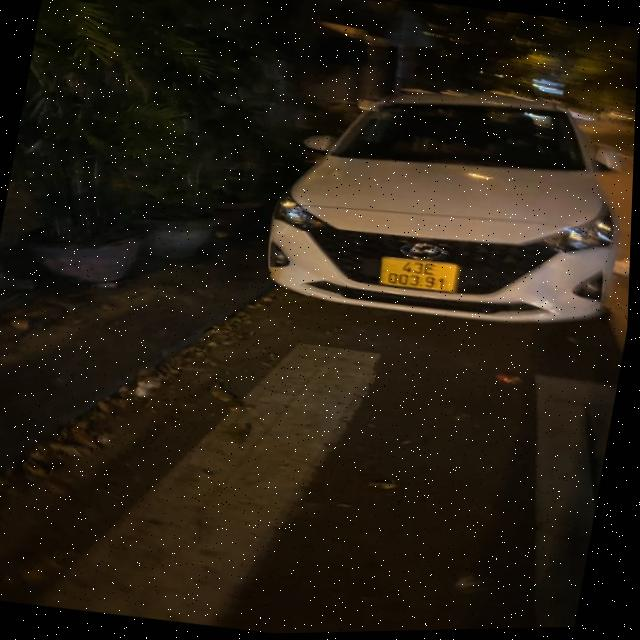car: (252, 56, 637, 357)
plate: (370, 247, 471, 304)
